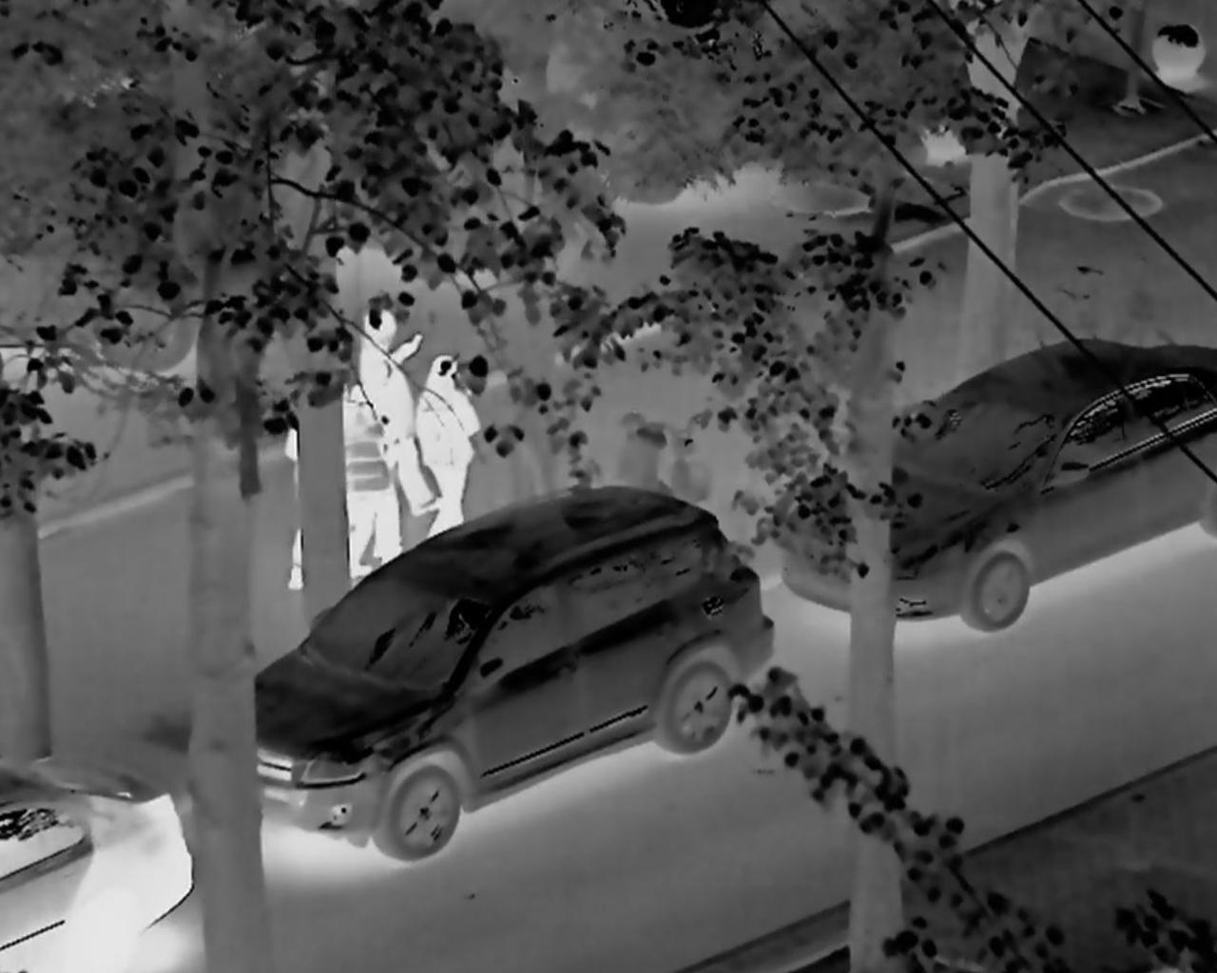person: (332, 377, 409, 582), (356, 278, 420, 506), (420, 351, 488, 541)
